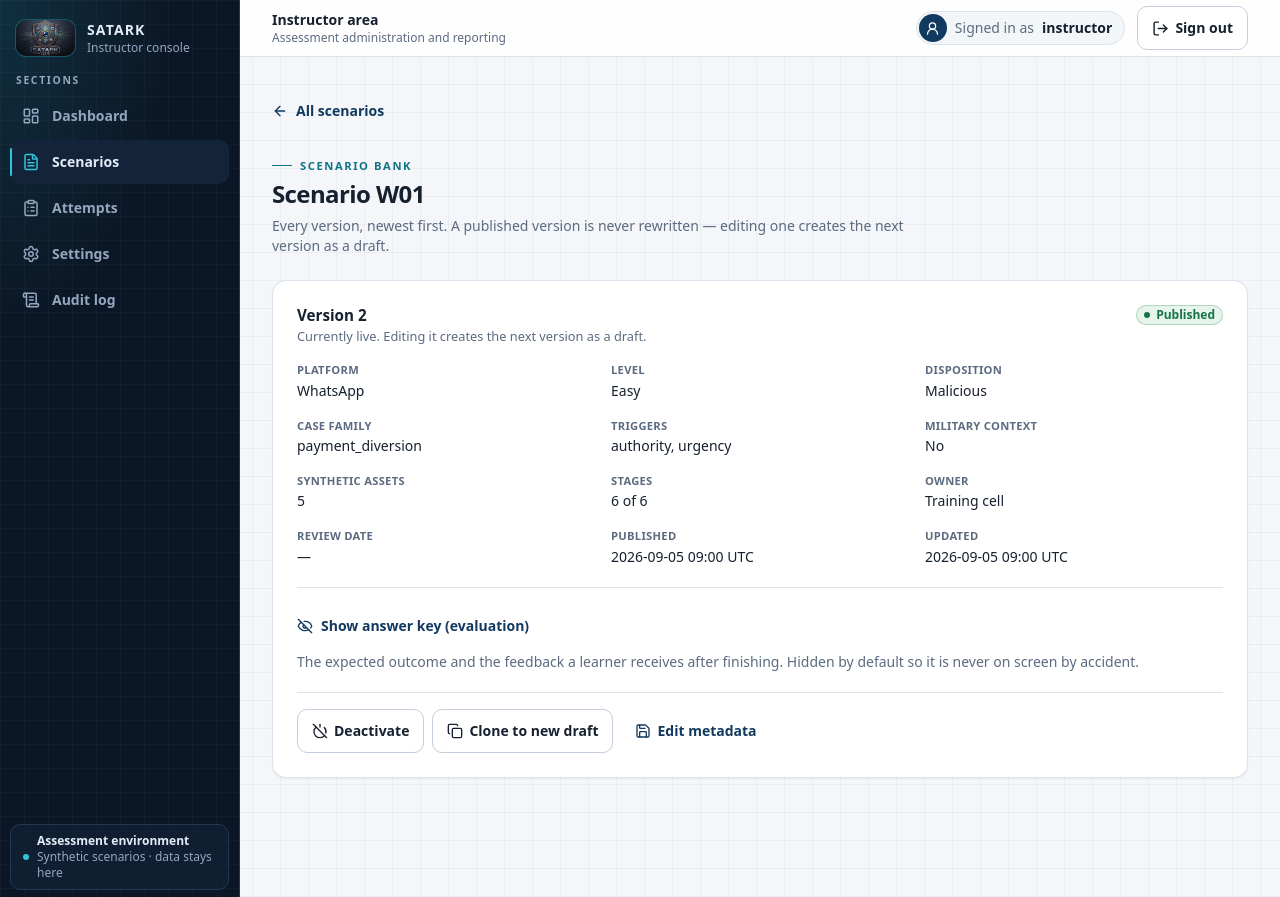
Test: the scenario manager › keeps the answer key hidden until it is deliberately revealed
Check: the heading "Version 2" is shown, box x1=297 y1=305 x2=367 y2=325
Check: the text "Confirm on the published number before paying anything." is not shown
Click the button "Show answer key (evaluation)": (413, 626) x1=297 y1=604 x2=529 y2=648
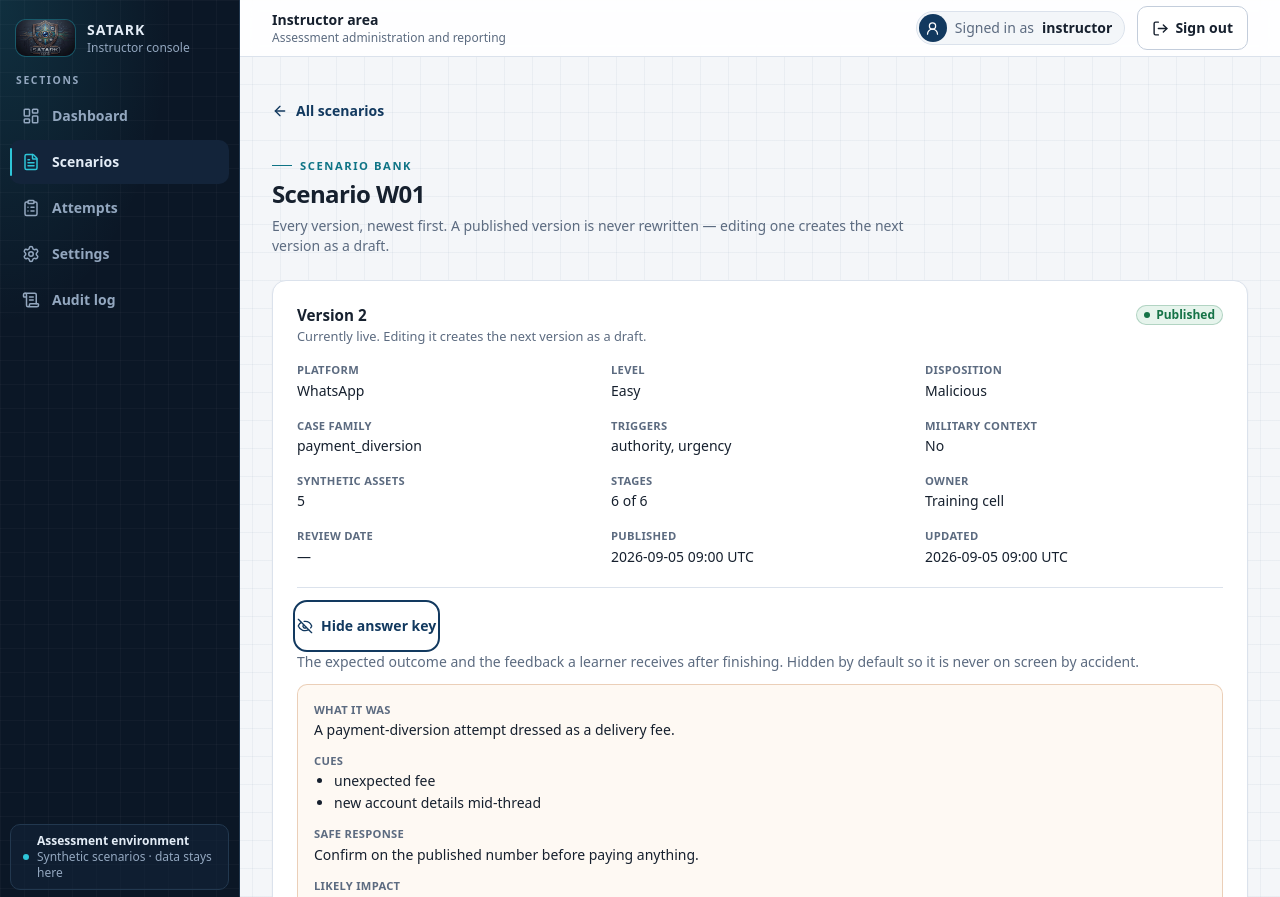
Check: the text "Confirm on the published number before paying anything." is shown, box x1=314 y1=845 x2=699 y2=864
Check: the button "Hide answer key" is shown, box x1=297 y1=604 x2=436 y2=648
